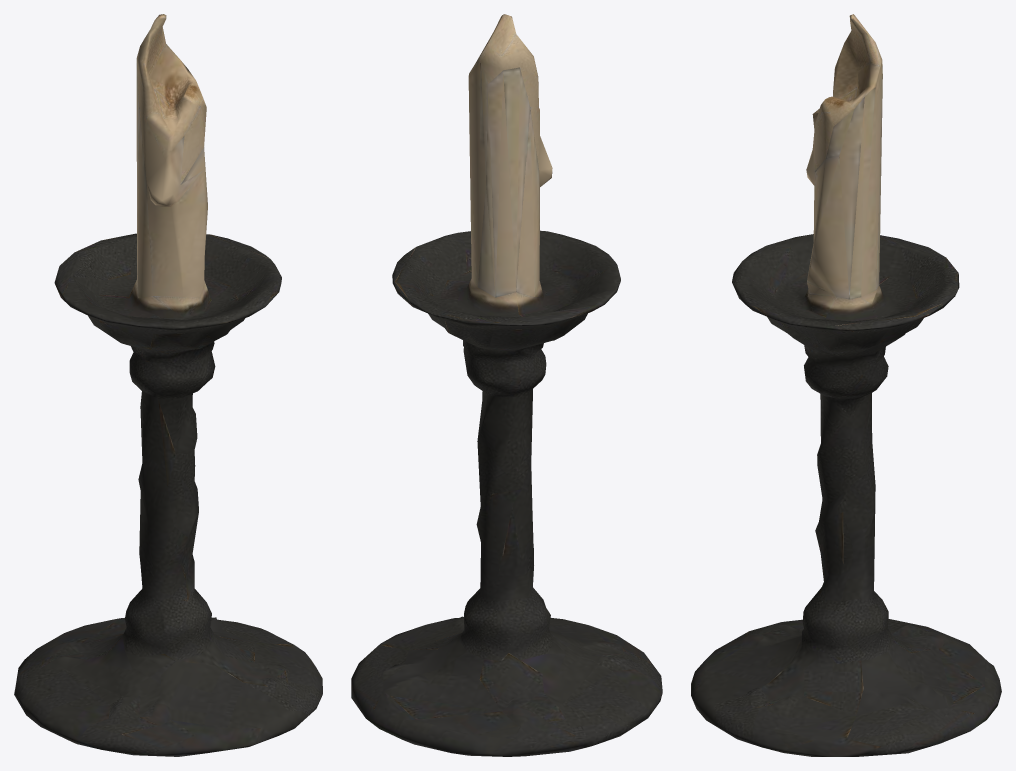
The model's file is candle.glb.
3 views of the same model, side by side, from view 1: azimuth 30°, elevation 25°; view 2: azimuth 150°, elevation 25°; view 3: azimuth 270°, elevation 25° (orthographic).
Visible parts, largest first — view 1: candle; view 2: candle; view 3: candle.
Boxes of the visible parts, <box> form: candle: <box>14,14,322,756</box>; candle: <box>351,14,662,756</box>; candle: <box>691,14,1001,756</box>.
Bounding box in the file's own units: 0.1574 × 0.38 × 0.1576.
Materials: 1 (1 with a texture image).
